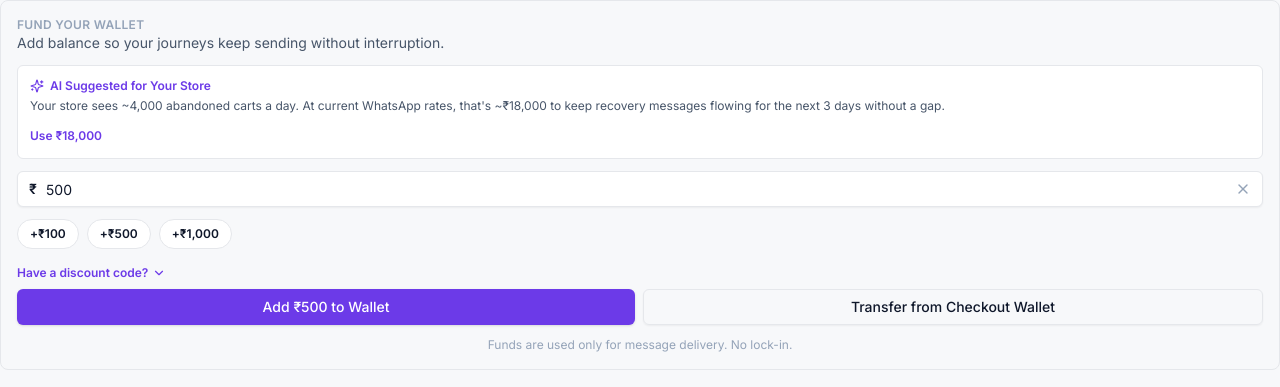
Test: WalletRechargeCard › shows an AI-suggested amount computed from the store's mock traffic, and Use applies it
expect the element with test id "wallet-recharge-ai-suggestion" shows "4,000 abandoned carts": met, box [30,98,945,113]
Click the button with test id "wallet-recharge-ai-suggestion-cta" at (66, 136), box [30,128,102,144]
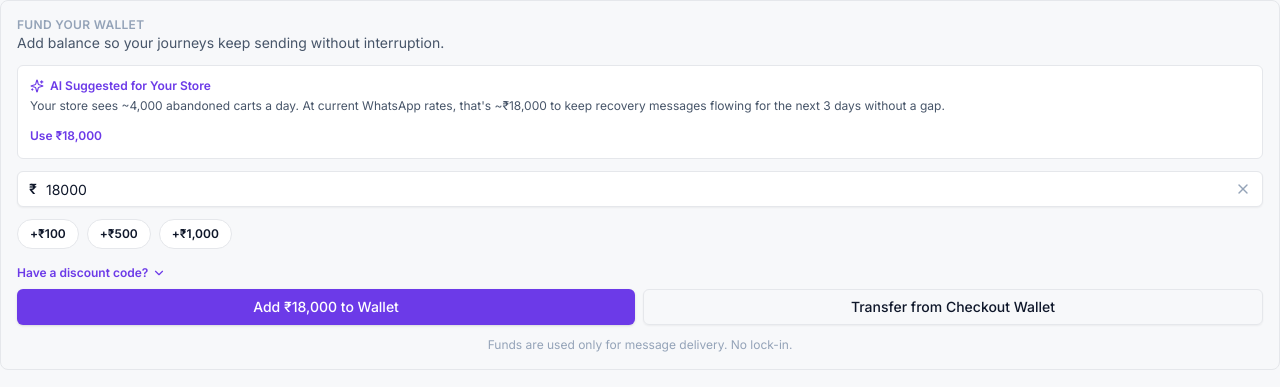
expect the number field with test id "wallet-recharge-amount-input" holds "18000": met, box [17,171,1263,207]
